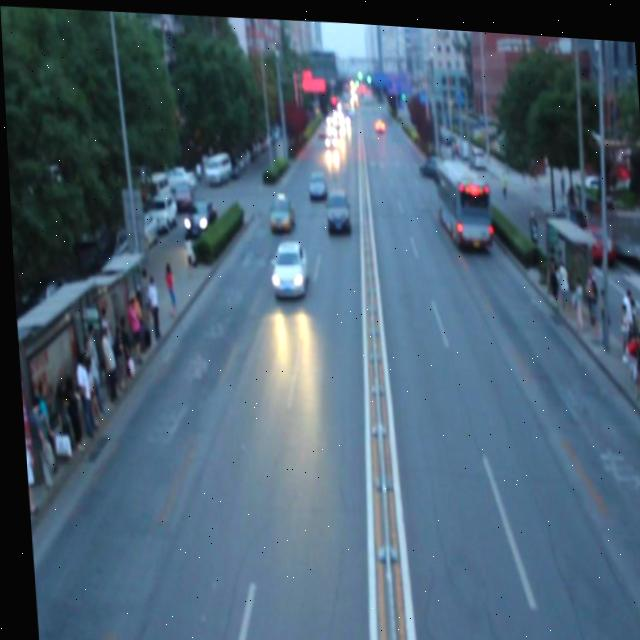car: (266, 232, 305, 294), (322, 185, 348, 228), (267, 188, 290, 225), (417, 143, 440, 172), (305, 165, 323, 195)
van: (432, 151, 490, 243)
